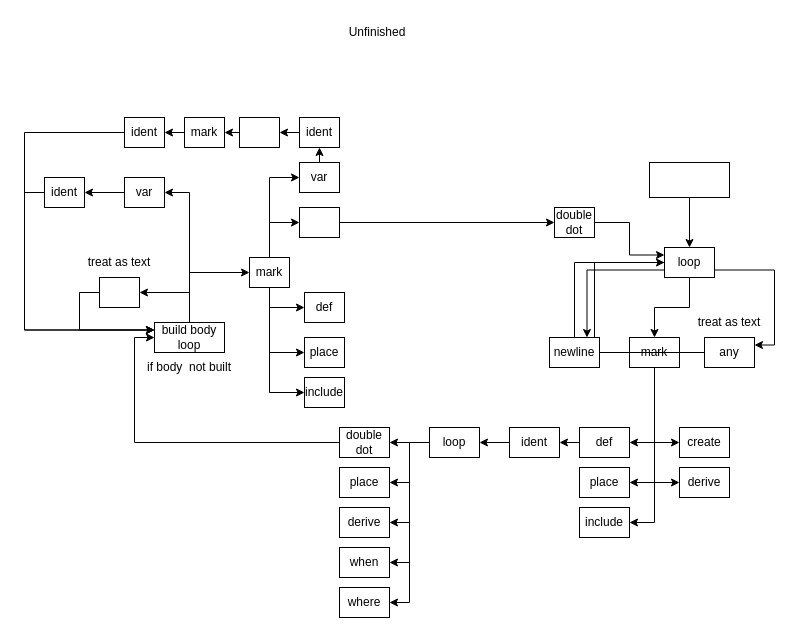
Image size: 807x635. Some labels were removed from this diagram. Here are the shapes that lost their labels. From the top down, the centre of each, then its label:
the point at 259,132: right arrow
the point at 689,180: program start
the point at 319,222: endef
the point at 119,292: other
